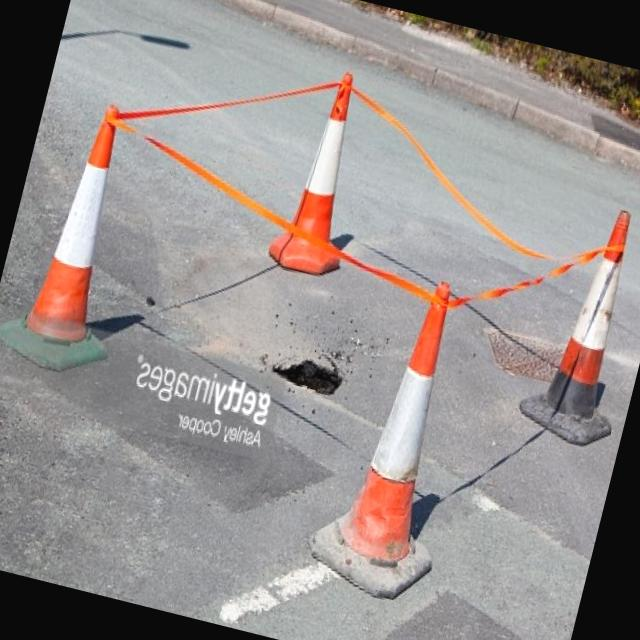Cone: (324, 264, 476, 604), (3, 72, 148, 382), (245, 52, 388, 290), (519, 174, 640, 454)
